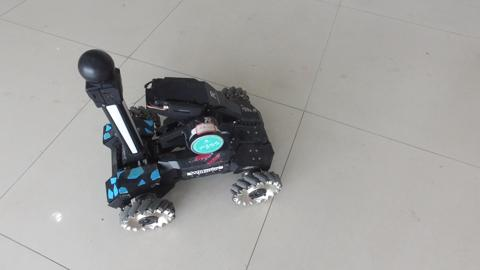chariot: (62, 59, 299, 234)
